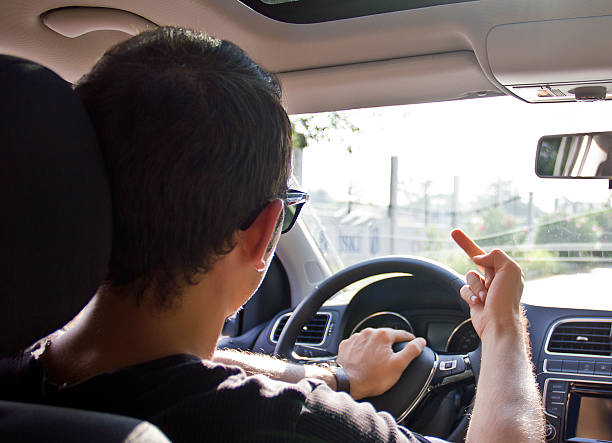insulting_gesture: (446, 224, 528, 335)
